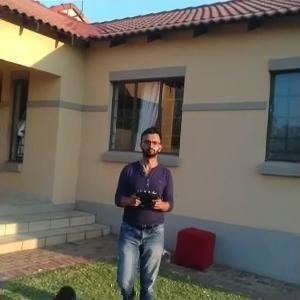follow: (109, 123, 177, 298)
